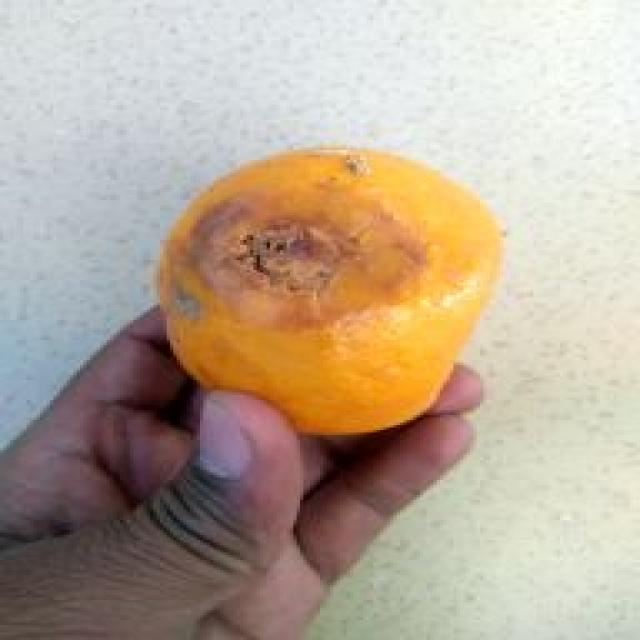Bad_Orange: (160, 150, 502, 433)
